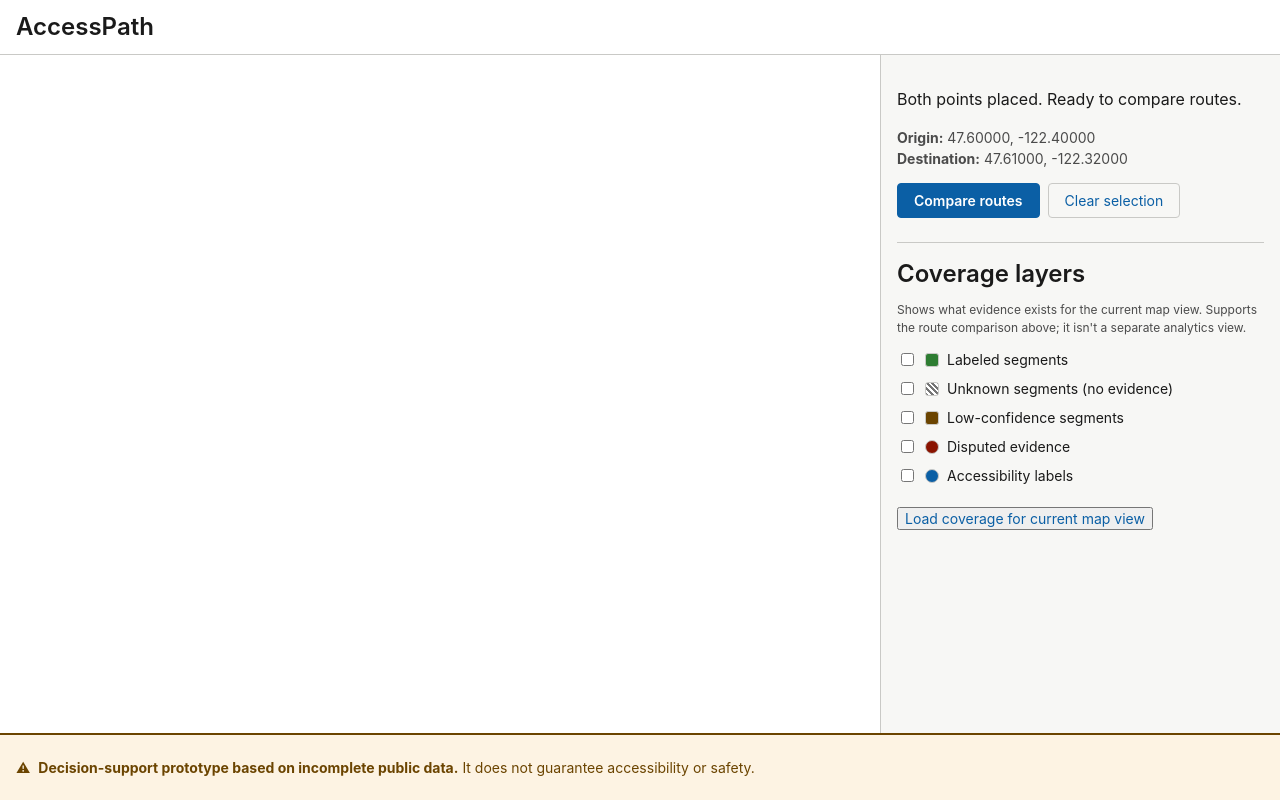
Test case: App › shows a clear message when no routable network is nearby
The width and height of the screenshot is (1280, 800).
Click the button "Compare routes" at point(968, 200), box [897, 183, 1040, 218]
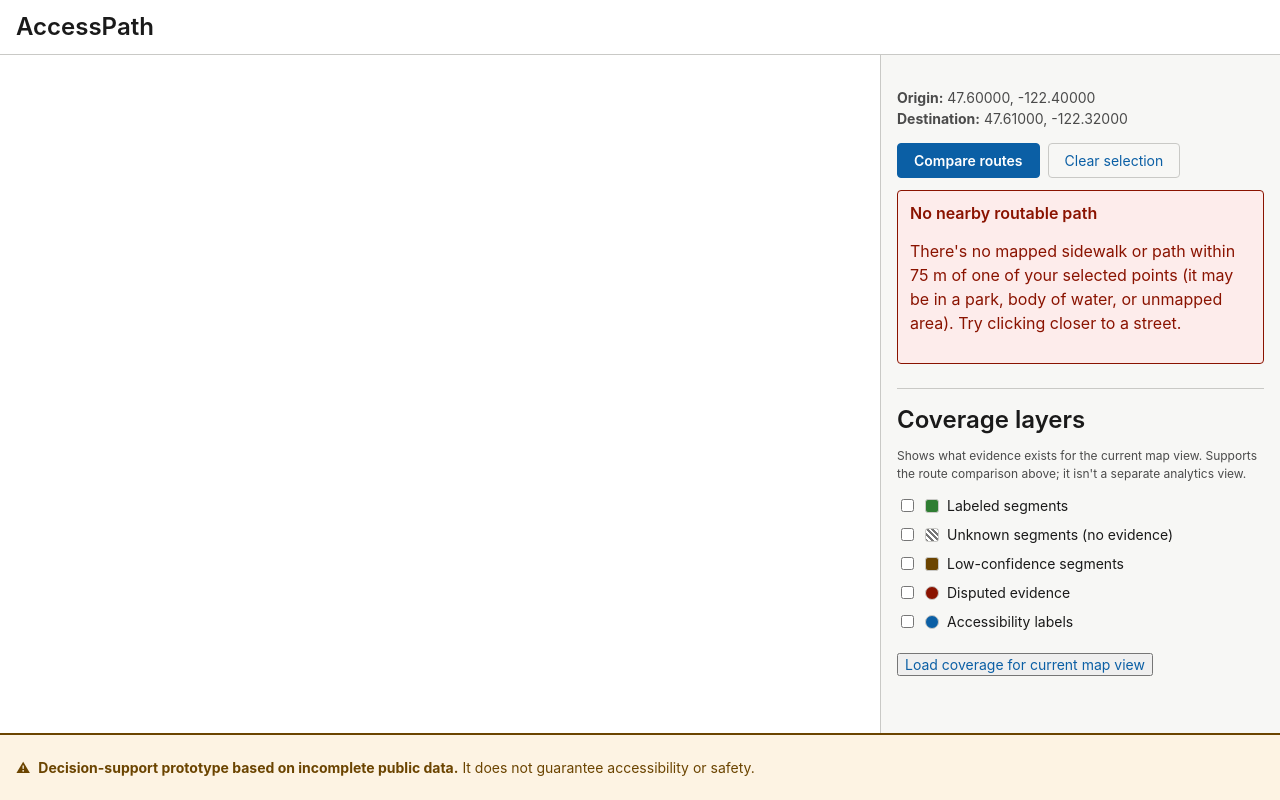
Now the heading "No nearby routable path" is shown, box [910, 203, 1097, 223]
